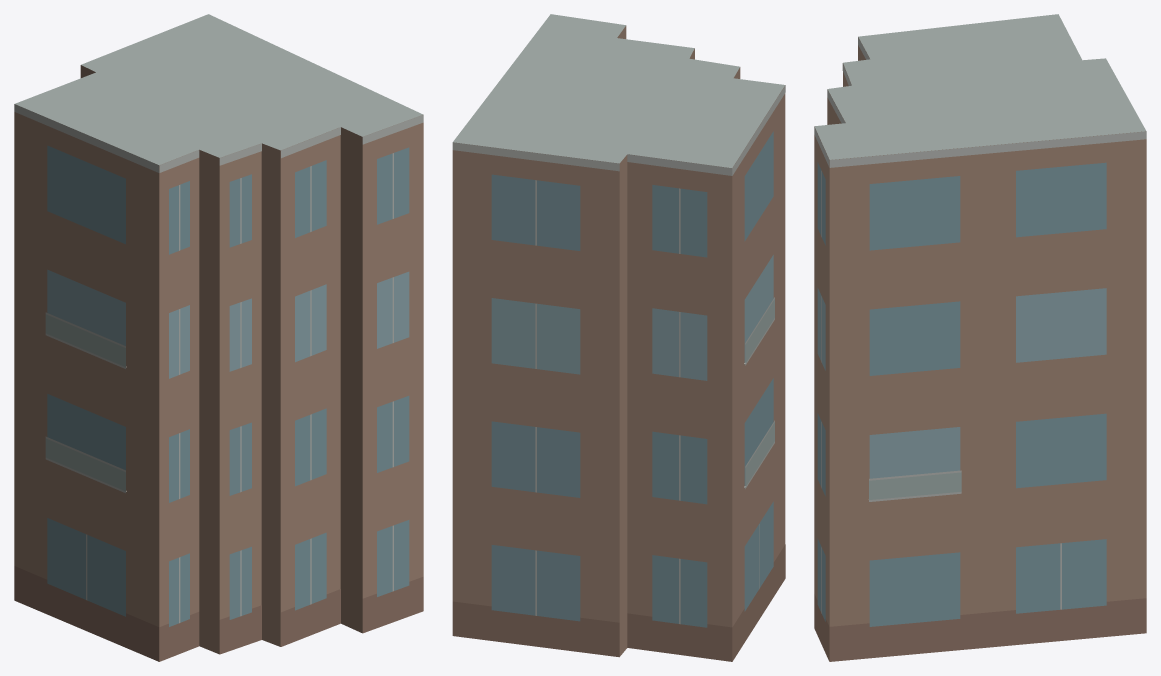
Rendered from survey-upis-32799406.glb.
The picture shows the model from 3 angles, left to right: view 1: azimuth 30°, elevation 25°; view 2: azimuth 150°, elevation 25°; view 3: azimuth 270°, elevation 25°; orthographic projection.
Visible parts, largest first — view 1: survey-upis-32799406.tmp; view 2: survey-upis-32799406.tmp; view 3: survey-upis-32799406.tmp.
Boxes of the visible parts, x1,y1,x2,y2 form: survey-upis-32799406.tmp: (14, 14, 423, 661); survey-upis-32799406.tmp: (452, 14, 785, 661); survey-upis-32799406.tmp: (814, 14, 1146, 661).
Bounding box in the file's own units: 9.58 × 15.35 × 9.22.
